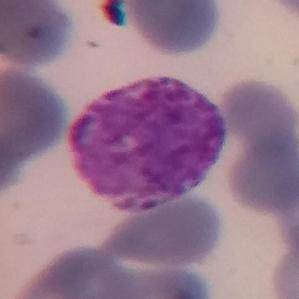Basophil: (63, 68, 231, 218)
Platelets: (95, 0, 132, 28)
RBC: (110, 189, 228, 270), (0, 71, 75, 190), (216, 76, 299, 151), (25, 243, 135, 299), (121, 0, 224, 58), (230, 132, 299, 212), (0, 0, 78, 68), (123, 261, 215, 299), (272, 188, 299, 258), (267, 244, 299, 299), (266, 0, 298, 23)
